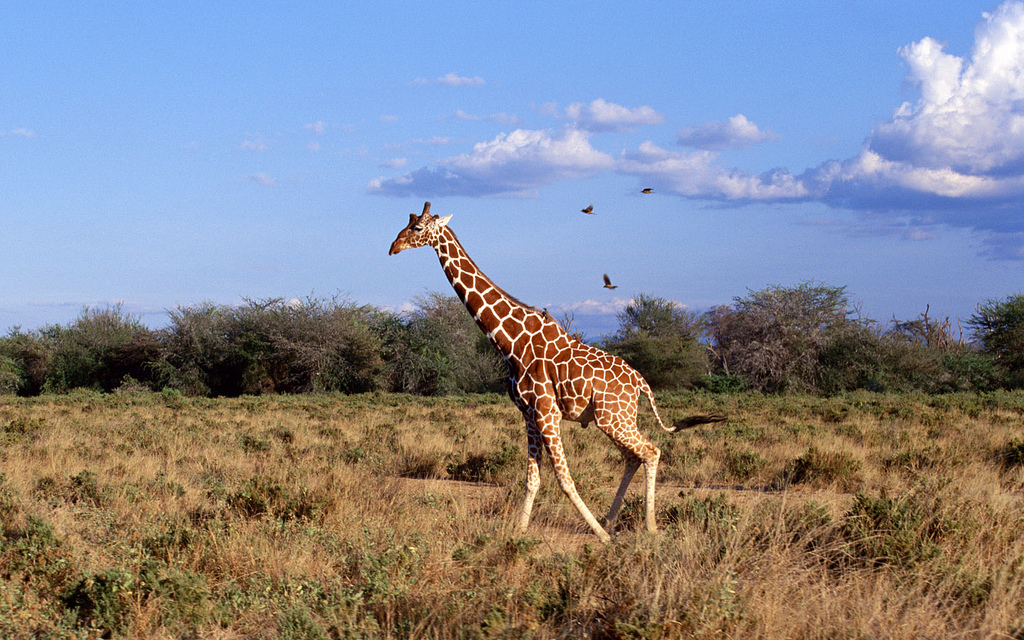giraffe: (375, 182, 725, 551)
